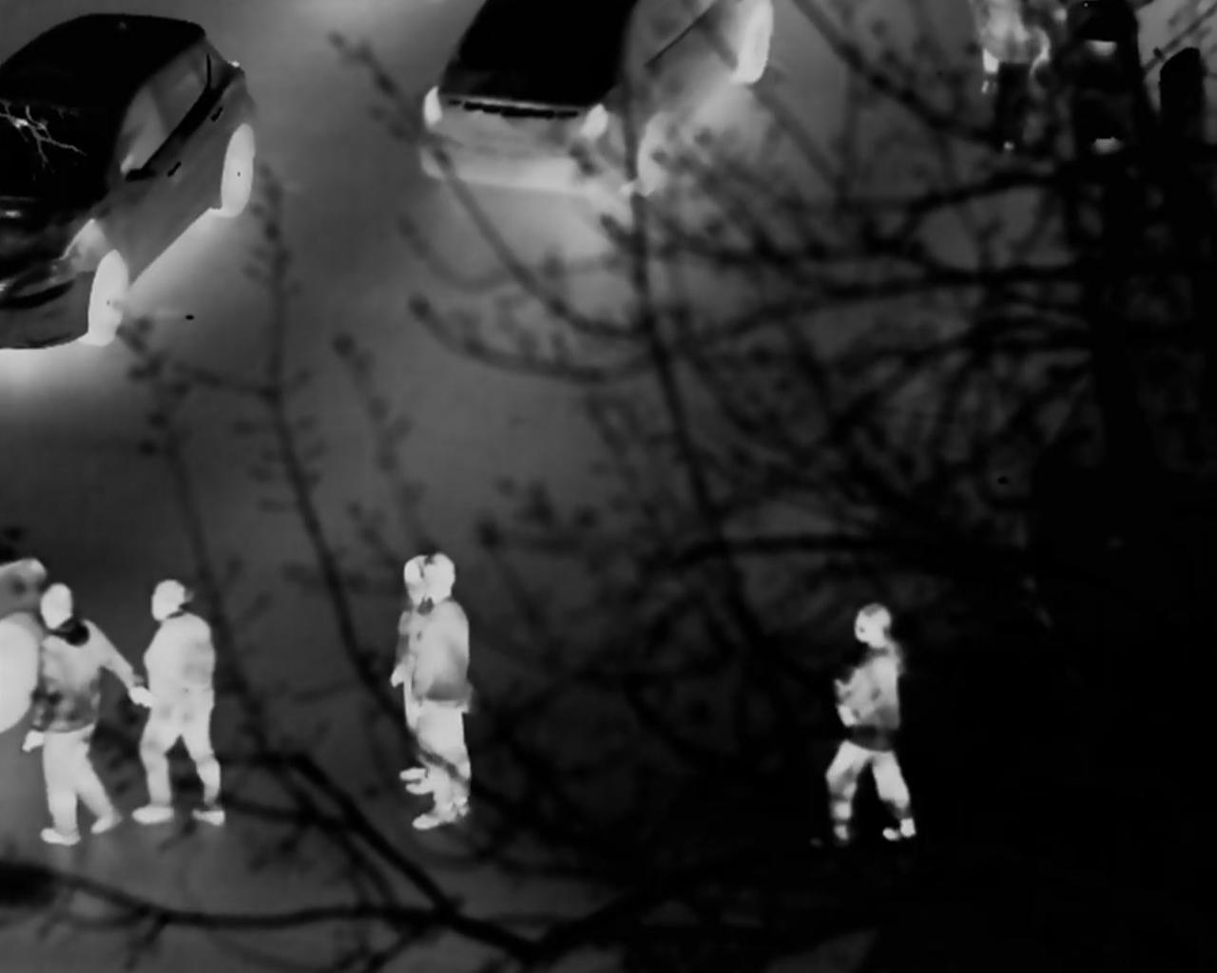person: (118, 576, 235, 837), (26, 589, 132, 845), (834, 602, 918, 856), (397, 555, 469, 790), (416, 557, 474, 833)
